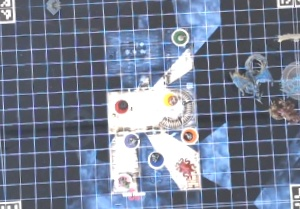blue: (145, 147, 168, 170)
green: (168, 25, 190, 47)
orange: (178, 124, 199, 145)
pink: (109, 96, 133, 116), (112, 170, 135, 190)
violet: (120, 129, 141, 149)
yellow: (160, 89, 179, 109)
